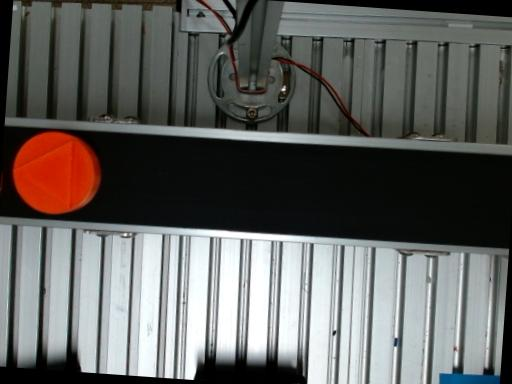Not_Square: (13, 139, 74, 210)
Orange_Waper: (12, 131, 101, 214)
